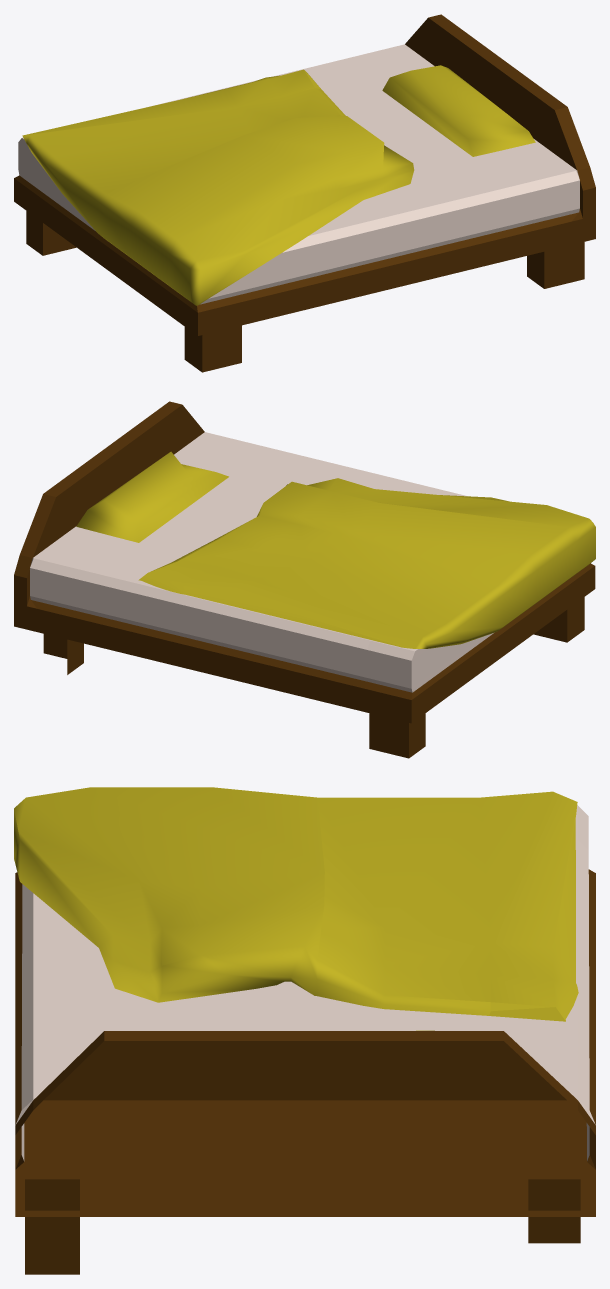
The model's file is interactible_bed_rumpled.fbx.
3 renders of one model, top to bottom at view 1: azimuth 30°, elevation 25°; view 2: azimuth 150°, elevation 25°; view 3: azimuth 270°, elevation 25°, orthographic. The views are drawn at different scales.
Visible parts, largest first — view 1: interactible_bed; view 2: interactible_bed; view 3: interactible_bed.
Part boxes in pixels (x1,y1,x2,y2): interactible_bed: (14,14,595,372); interactible_bed: (14,401,595,758); interactible_bed: (14,787,595,1274).
Bounding box in the file's own units: 4.04 × 1.46 × 3.21.
